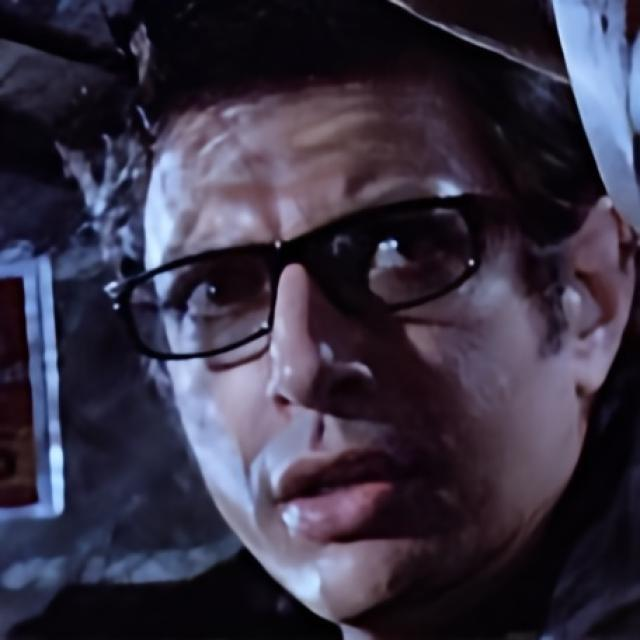Fear: (140, 64, 544, 626)
